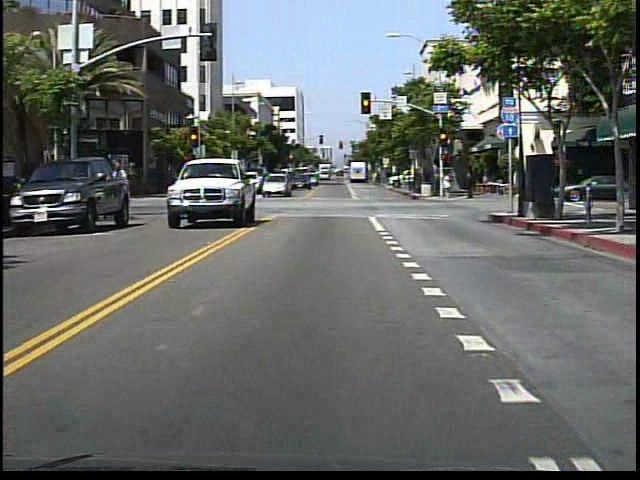person: (116, 163, 151, 191), (462, 170, 477, 203), (183, 172, 195, 198), (443, 171, 453, 199)
